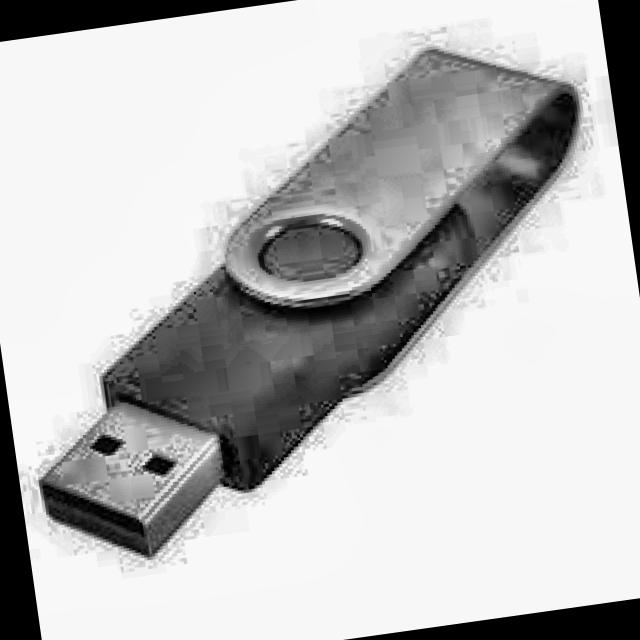Mug: (17, 1, 599, 601)
